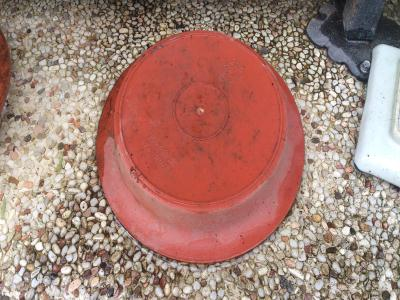bowl: (93, 28, 309, 267)
